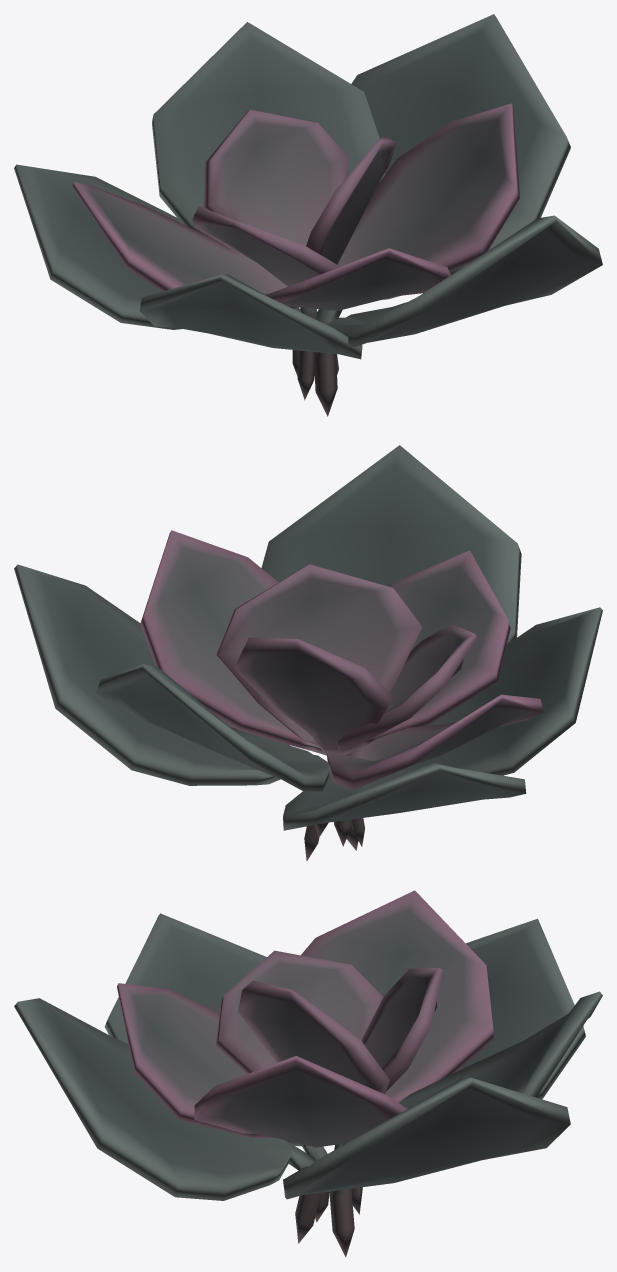
The model's file is plants-cacti-succulents-purple-succulent_v1.fbx.
3 views of the same model, one above another, from view 1: azimuth 30°, elevation 25°; view 2: azimuth 150°, elevation 25°; view 3: azimuth 270°, elevation 25° (orthographic). The views are drawn at different scales.
Visible parts, largest first — view 1: Purple Succulent_v1; view 2: Purple Succulent_v1; view 3: Purple Succulent_v1.
Part boxes in pixels (x1,y1,x2,y2): Purple Succulent_v1: (14,14,602,416); Purple Succulent_v1: (14,445,602,861); Purple Succulent_v1: (14,890,602,1257).
Size of the model in its own units: 0.1473 by 0.0825 by 0.15.
